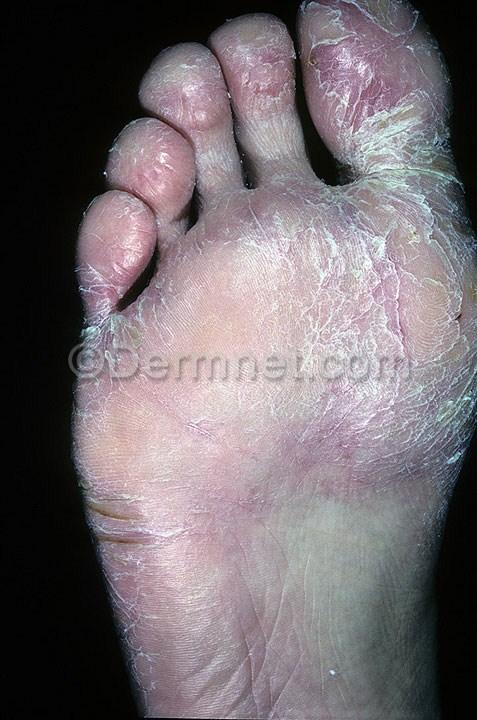Eczema: (306, 0, 468, 179), (333, 185, 477, 350), (177, 38, 300, 116), (75, 246, 166, 351), (208, 180, 309, 264), (97, 493, 174, 593), (133, 613, 198, 707)
